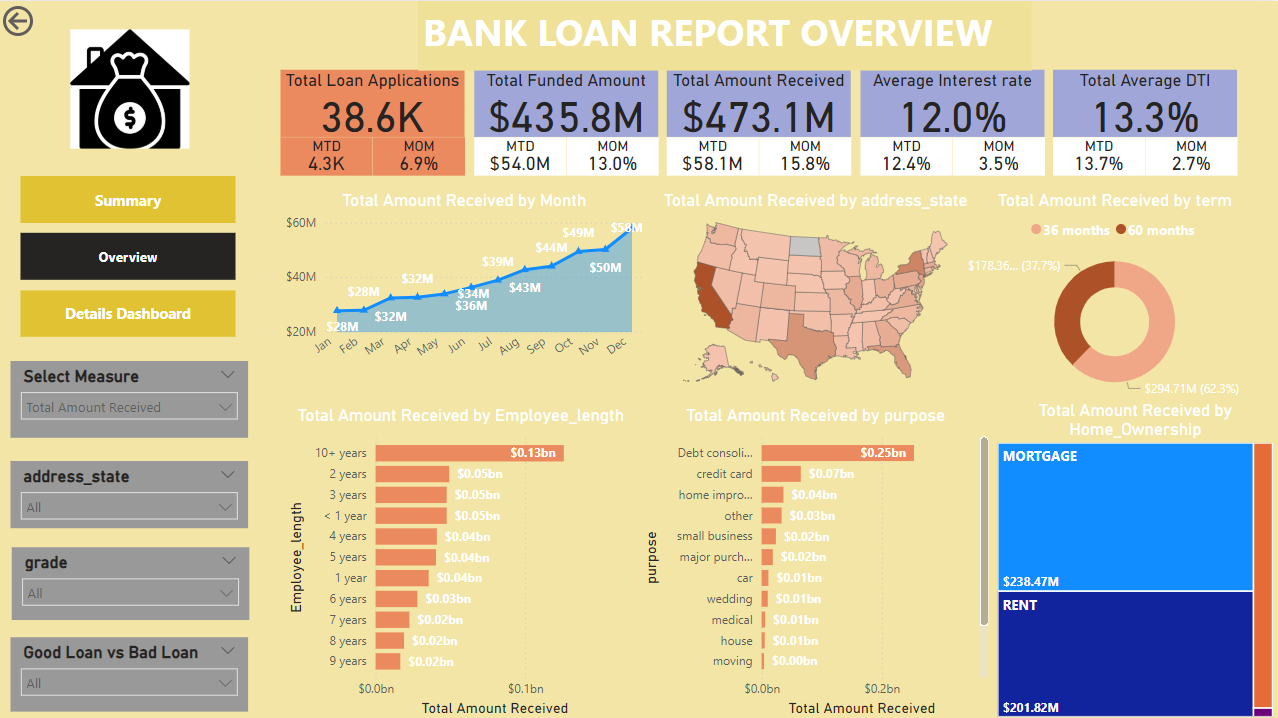

Layout of this report page (visuals, bound fields, positions):
{"tool":"powerbi","page":{"name":"Overview","canvas":[1280,720],"ordinal":1},"visuals":[{"type":"card","title":"Total Loan Applications","fields":{"Values":["financial_loan.Total Loan Applications"]},"box":[282.2,68.9,183.9,67.2],"z":0,"group":"g5"},{"type":"group","id":"g1","title":"Group 1","box":[476.2,68.9,182.9,105.7],"z":0},{"type":"card","title":"Total Funded Amount","fields":{"Values":["financial_loan.Total funded amount"]},"box":[476.2,68.9,183.9,67.2],"z":0,"group":"g1"},{"type":"card","title":"Total Amount Received","fields":{"Values":["financial_loan.Total Amount Received"]},"box":[669.2,68.9,183.9,67.2],"z":0,"group":"g2"},{"type":"card","title":"Average Interest rate","fields":{"Values":["financial_loan.Average interest rate"]},"box":[862.1,68.9,183.9,67.2],"z":0,"group":"g3"},{"type":"card","title":"Total Average DTI","fields":{"Values":["financial_loan.Total average DTI"]},"box":[1055.1,68.9,183.9,67.2],"z":0,"group":"g4"},{"type":"group","id":"g2","title":"Group 1","box":[669.2,68.9,182.9,105.7],"z":1000},{"type":"card","title":"MTD","fields":{"Values":["financial_loan.MTD Loan applications"]},"box":[282.2,136.1,91.9,38.4],"z":1000,"group":"g5"},{"type":"card","title":"MTD","fields":{"Values":["financial_loan.MTD funded amount"]},"box":[476.2,136.1,91.9,38.4],"z":1000,"group":"g1"},{"type":"card","title":"MTD","fields":{"Values":["financial_loan.MTD Total Amount Received"]},"box":[669.2,136.1,91.9,38.4],"z":1000,"group":"g2"},{"type":"card","title":"MTD","fields":{"Values":["financial_loan.MTD Average Interest rate"]},"box":[862.1,136.1,91.9,38.4],"z":1000,"group":"g3"},{"type":"card","title":"MTD","fields":{"Values":["financial_loan.MTD TOTAL AVERAGE DTI"]},"box":[1055.1,136.1,91.9,38.4],"z":1000,"group":"g4"},{"type":"group","id":"g3","title":"Group 1","box":[862.1,68.9,182.9,105.7],"z":2000},{"type":"card","title":"MOM","fields":{"Values":["financial_loan.MOM Loan applications"]},"box":[374.1,136.1,91.9,38.4],"z":2000,"group":"g5"},{"type":"card","title":"MOM","fields":{"Values":["financial_loan.MOM total funded amount"]},"box":[568.1,136.1,91.9,38.4],"z":2000,"group":"g1"},{"type":"card","title":"MOM","fields":{"Values":["financial_loan.MOM Total Amount Received"]},"box":[761.1,136.1,91.9,38.4],"z":2000,"group":"g2"},{"type":"card","title":"MOM","fields":{"Values":["financial_loan.MOM total average unterest rate"]},"box":[954,136.1,91.9,38.4],"z":2000,"group":"g3"},{"type":"card","title":"MOM","fields":{"Values":["financial_loan.MOM Average DTI"]},"box":[1147,136.1,91.9,38.4],"z":2000,"group":"g4"},{"type":"group","id":"g4","title":"Group 1","box":[1055.1,68.9,182.9,105.7],"z":3000},{"type":"group","id":"g5","title":"Group 1","box":[282.2,68.9,183.9,105.7],"z":4000},{"type":"actionButton","box":[0,0,100,40],"z":5000},{"type":"slicer","fields":{"Values":["financial_loan.address_state"]},"box":[12.2,460,237.3,66.9],"z":6000},{"type":"slicer","fields":{"Values":["financial_loan.grade"]},"box":[13.4,546.4,237.3,73],"z":7000},{"type":"slicer","fields":{"Values":["financial_loan.Good Loan vs Bad Loan"]},"box":[12.2,636.5,237.3,74.2],"z":8000},{"type":"textbox","box":[419.9,0,613.4,69.4],"z":9000},{"type":"areaChart","fields":{"Y":["financial_loan.Total Amount Received","financial_loan.Total funded amount","financial_loan.Total Loan Applications"],"Category":["Date Table.Month"]},"box":[282.3,188.6,367.5,188.6],"z":10000},{"type":"slicer","fields":{"Values":["Select Measure.Select Measure"]},"box":[12.2,360.2,237.3,76.7],"z":11000},{"type":"shapeMap","fields":{"Value":["financial_loan.Total Amount Received"],"Category":["financial_loan.address_state"]},"box":[659.6,188.6,315.2,205.7],"z":12000},{"type":"donutChart","fields":{"Y":["financial_loan.Total Amount Received","financial_loan.Total funded amount","financial_loan.Total Loan Applications"],"Category":["financial_loan.term"]},"box":[954.1,188.6,326.1,215.4],"z":13000},{"type":"barChart","fields":{"Y":["financial_loan.Total Amount Received","financial_loan.Total funded amount","financial_loan.Total Loan Applications"],"Category":["financial_loan.emp_length"]},"box":[284.8,404,355.4,316.4],"z":14000},{"type":"barChart","fields":{"Y":["financial_loan.Total Amount Received","financial_loan.Total funded amount","financial_loan.Total Loan Applications"],"Category":["financial_loan.purpose"]},"box":[640.1,404,355.4,316.4],"z":15000},{"type":"treemap","fields":{"Values":["financial_loan.Total Amount Received","financial_loan.Total funded amount","financial_loan.Total Loan Applications"],"Group":["financial_loan.home_ownership"]},"box":[995.3,398.1,284.7,322.1],"z":16000},{"type":"pageNavigator","box":[23.1,175.2,215.4,161.9],"z":17000},{"type":"image","box":[66.9,9.7,129,155.8],"z":18000}]}

Visuals, with their boxes in screenshot pixels (x1, y1, x2, y2), scaled from the page's 1280x720 canvas onto the 1278x718 screenshot:
"Total Loan Applications" card: left=282, top=69, right=465, bottom=136
"Group 1" group: left=475, top=69, right=658, bottom=174
"Total Funded Amount" card: left=475, top=69, right=659, bottom=136
"Total Amount Received" card: left=668, top=69, right=852, bottom=136
"Average Interest rate" card: left=861, top=69, right=1044, bottom=136
"Total Average DTI" card: left=1053, top=69, right=1237, bottom=136
"Group 1" group: left=668, top=69, right=851, bottom=174
"MTD" card: left=282, top=136, right=374, bottom=174
"MTD" card: left=475, top=136, right=567, bottom=174
"MTD" card: left=668, top=136, right=760, bottom=174
"MTD" card: left=861, top=136, right=953, bottom=174
"MTD" card: left=1053, top=136, right=1145, bottom=174
"Group 1" group: left=861, top=69, right=1043, bottom=174
"MOM" card: left=374, top=136, right=465, bottom=174
"MOM" card: left=567, top=136, right=659, bottom=174
"MOM" card: left=760, top=136, right=852, bottom=174
"MOM" card: left=953, top=136, right=1044, bottom=174
"MOM" card: left=1145, top=136, right=1237, bottom=174
"Group 1" group: left=1053, top=69, right=1236, bottom=174
"Group 1" group: left=282, top=69, right=465, bottom=174
actionButton: left=0, top=0, right=100, bottom=40
slicer - financial_loan.address_state: left=12, top=459, right=249, bottom=525
slicer - financial_loan.grade: left=13, top=545, right=250, bottom=618
slicer - financial_loan.Good Loan vs Bad Loan: left=12, top=635, right=249, bottom=709
textbox: left=419, top=0, right=1032, bottom=69
areaChart - financial_loan.Total Amount Received x financial_loan.Total funded amount: left=282, top=188, right=649, bottom=376
slicer - Select Measure.Select Measure: left=12, top=359, right=249, bottom=436
shapeMap - financial_loan.Total Amount Received x financial_loan.address_state: left=659, top=188, right=973, bottom=393
donutChart - financial_loan.Total Amount Received x financial_loan.Total funded amount: left=953, top=188, right=1277, bottom=403
barChart - financial_loan.Total Amount Received x financial_loan.Total funded amount: left=284, top=403, right=639, bottom=717
barChart - financial_loan.Total Amount Received x financial_loan.Total funded amount: left=639, top=403, right=994, bottom=717
treemap - financial_loan.Total Amount Received x financial_loan.Total funded amount: left=994, top=397, right=1277, bottom=717
pageNavigator: left=23, top=175, right=238, bottom=336
image: left=67, top=10, right=196, bottom=165
